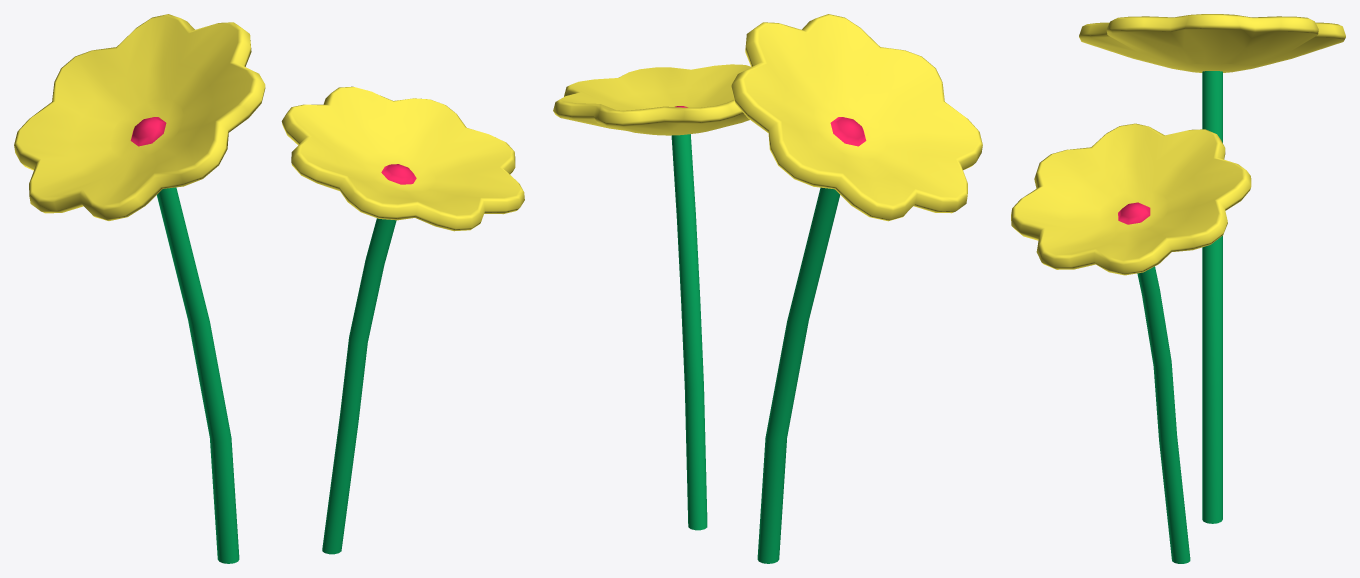
File: Farm_2_Flowers_2.glb
The picture shows the model from 3 angles, left to right: view 1: azimuth 30°, elevation 25°; view 2: azimuth 150°, elevation 25°; view 3: azimuth 270°, elevation 25°; orthographic projection. The views are drawn at different scales.
Visible parts, largest first — view 1: Farm_2_Flowers_2; view 2: Farm_2_Flowers_2; view 3: Farm_2_Flowers_2.
Part boxes in pixels (box(x1,y1,x2,y2)): Farm_2_Flowers_2: box(14, 14, 524, 563); Farm_2_Flowers_2: box(553, 14, 982, 563); Farm_2_Flowers_2: box(1011, 14, 1345, 563).
Bounding box in the file's own units: 0.6126 × 0.7138 × 0.4264.
1 material, 1 textured.
